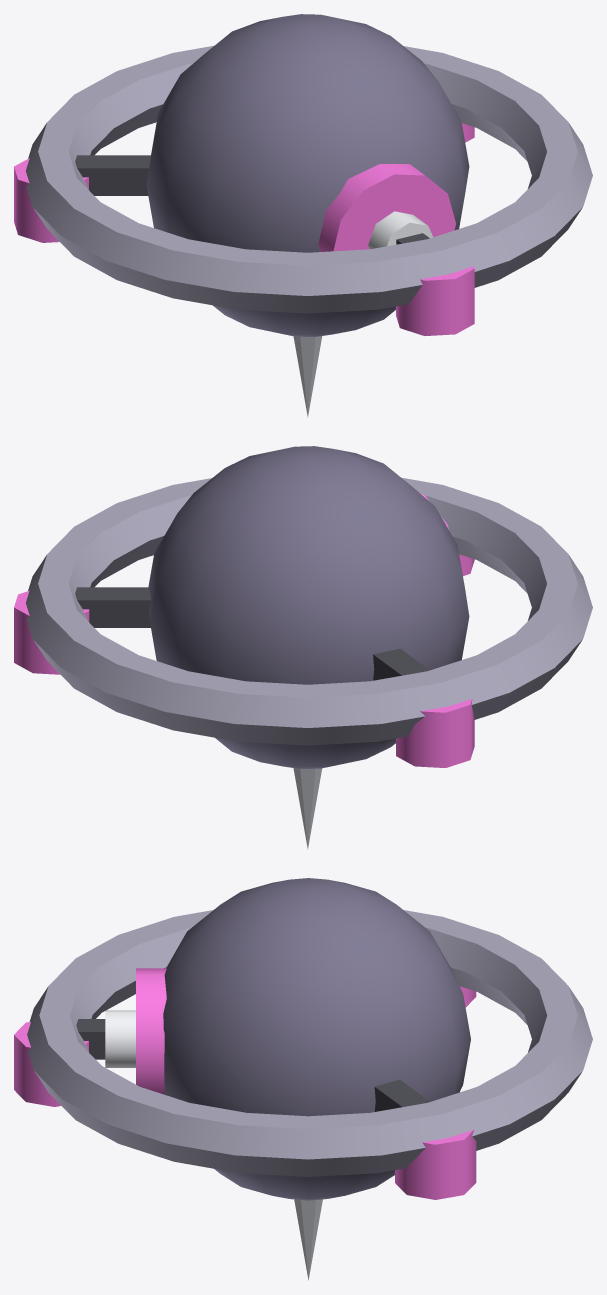
Rendered from sh_drone.glb.
3 views of the same model, one above another, from view 1: azimuth 30°, elevation 25°; view 2: azimuth 150°, elevation 25°; view 3: azimuth 270°, elevation 25° (orthographic).
Visible parts, largest first — view 1: sh_drone; view 2: sh_drone; view 3: sh_drone.
Boxes of the visible parts, x1,y1,x2,y2 form: sh_drone: (14, 14, 592, 417); sh_drone: (14, 446, 592, 849); sh_drone: (14, 878, 592, 1280).
Size of the model in its own units: 1.12 by 0.845 by 1.14.
